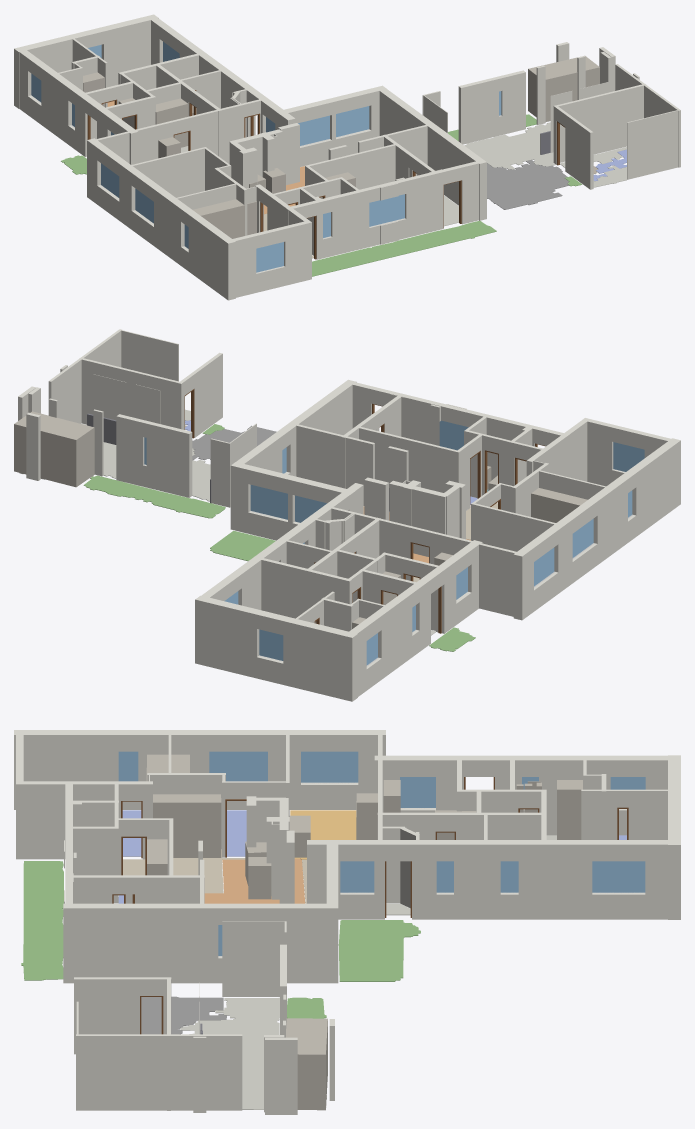
3 renders of one model, top to bottom at view 1: azimuth 30°, elevation 25°; view 2: azimuth 150°, elevation 25°; view 3: azimuth 270°, elevation 25°, orthographic. The views are drawn at different scales.
Parts seen in each view (by area): view 1: walls, floor_29_Garage, floor_25_Outdoor, floor_31_Undefined, furniture_11_closet, furniture_13_closet, window_17, furniture_8_closet, window_8, window_14, window_25, furniture_30_fireplace (+1 smaller); view 2: walls, furniture_11_closet, floor_23_Outdoor, furniture_13_closet, floor_31_Undefined, floor_22_Outdoor, window_8, floor_29_Garage, window_25, window_0, window_17, floor_21_Outdoor; view 3: walls, floor_25_Outdoor, floor_31_Undefined, floor_22_Outdoor, furniture_12_closet, furniture_11_closet, floor_29_Garage, floor_13_Living_Room, window_4, window_2, window_3, floor_14_Entry (+15 smaller).
Part boxes in pixels (x1,y1,x2,y2): walls: (14,14,680,300); floor_29_Garage: (487,159,568,209); floor_25_Outdoor: (312,221,496,276); floor_31_Undefined: (464,122,555,169); furniture_11_closet: (528,55,599,121); furniture_13_closet: (192,199,244,238); window_17: (369,194,404,226); furniture_8_closet: (155,98,188,147); window_8: (336,106,369,137); window_14: (298,115,329,145); window_25: (256,242,283,272); furniture_30_fireplace: (263,168,285,193); walls: (18,329,680,701); furniture_11_closet: (14,411,94,487); floor_23_Outdoor: (83,475,225,518); furniture_13_closet: (531,488,587,522); floor_31_Undefined: (82,424,210,501); floor_22_Outdoor: (210,530,275,561); window_8: (250,485,287,519); floor_29_Garage: (192,425,276,460); window_25: (613,442,644,471); window_0: (259,629,283,660); window_17: (439,420,468,450); floor_21_Outdoor: (429,627,475,651); walls: (14,730,680,1114); floor_25_Outdoor: (21,861,63,980); floor_31_Undefined: (180,997,279,1109); floor_22_Outdoor: (338,920,420,981); furniture_12_closet: (153,794,221,857); furniture_11_closet: (286,1018,327,1110); floor_29_Garage: (141,996,226,1034); floor_13_Living_Room: (204,858,305,903); window_4: (301,751,358,782); window_2: (592,861,645,892); window_3: (209,751,267,781); floor_14_Entry: (123,850,245,893).
Size of the model in its own units: 23.96 by 2.72 by 21.79.
